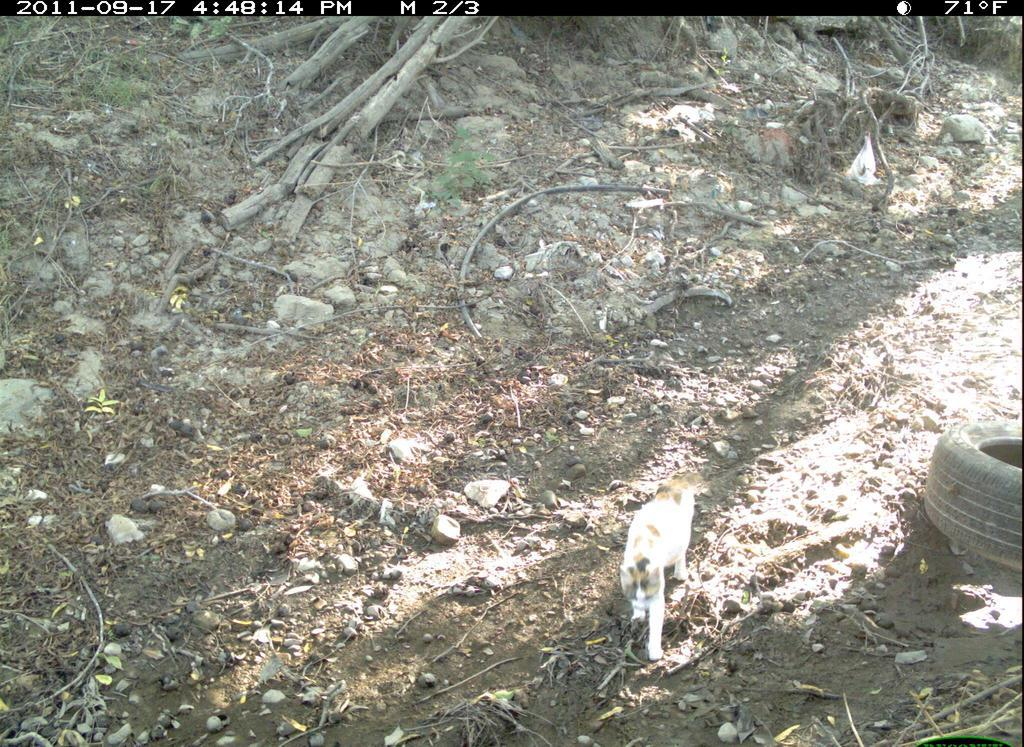cat: (619, 468, 710, 669)
